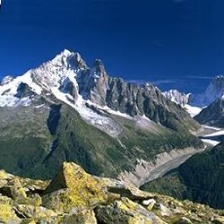neutral: (3, 2, 224, 221)
